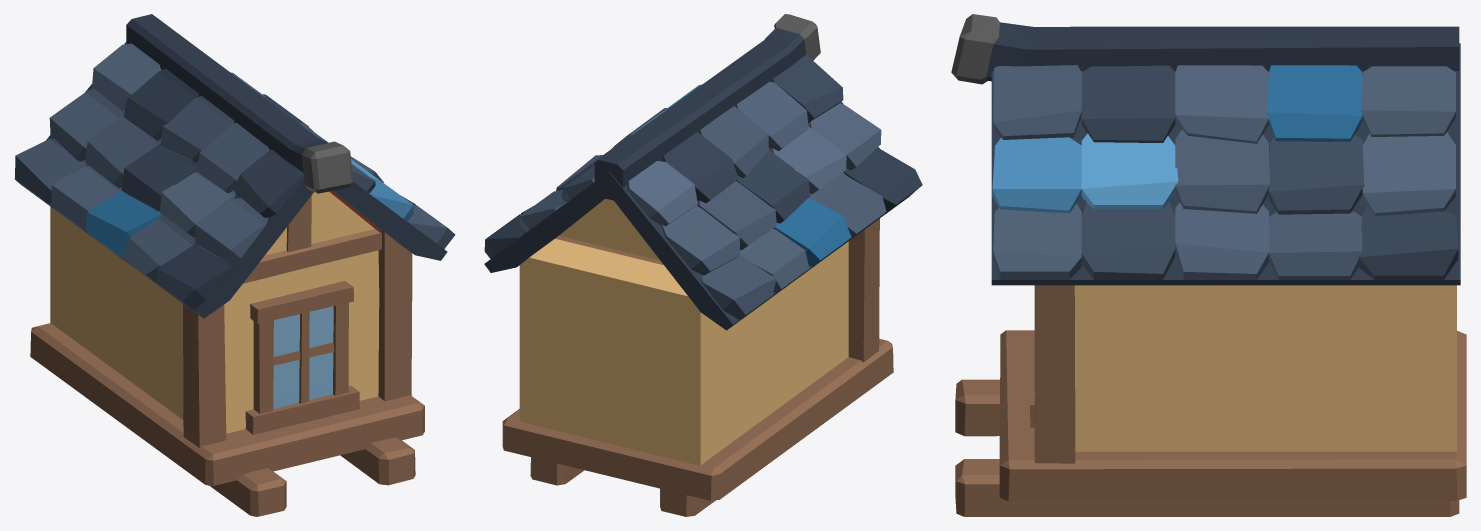
File: House_2Floor_Side_L.fbx
3 renders of one model, left to right at view 1: azimuth 30°, elevation 25°; view 2: azimuth 150°, elevation 25°; view 3: azimuth 270°, elevation 25°, orthographic. The views are drawn at different scales.
Parts seen in each view (by area): view 1: House_2Floor_Side_L; view 2: House_2Floor_Side_L; view 3: House_2Floor_Side_L.
Boxes of the visible parts, x1=… form: House_2Floor_Side_L: x1=14, y1=14, x2=455, y2=516; House_2Floor_Side_L: x1=484, y1=14, x2=922, y2=516; House_2Floor_Side_L: x1=951, y1=14, x2=1466, y2=516.
Bounding box in the file's own units: 156 × 189 × 198.
